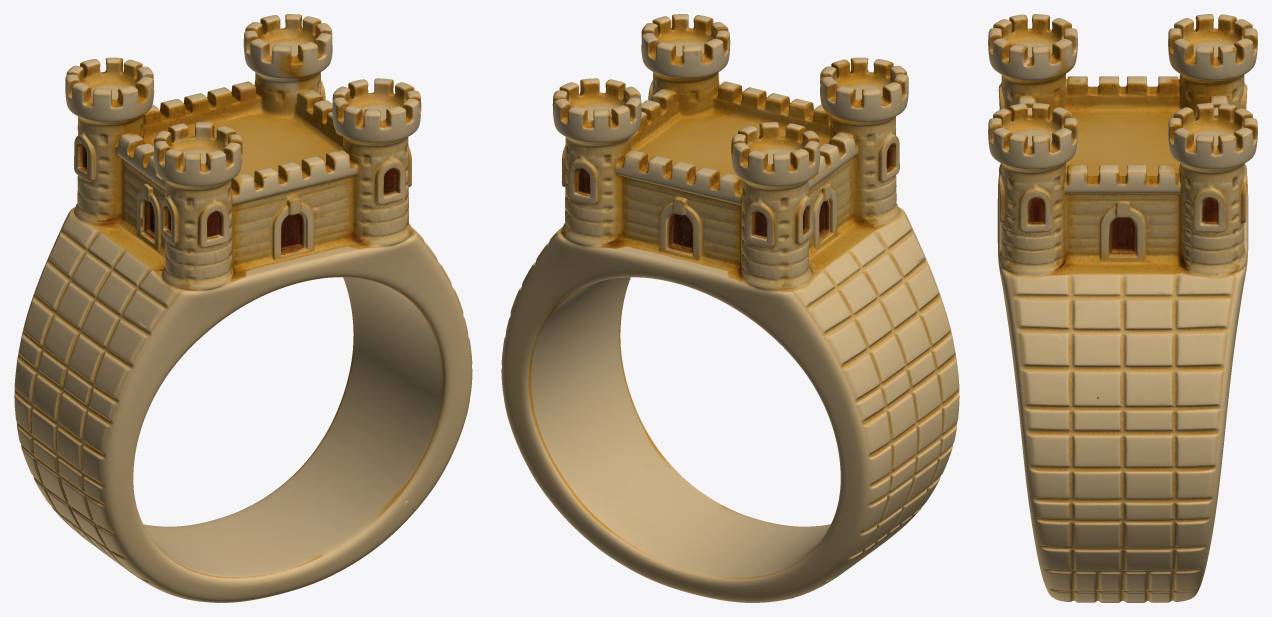
File: chateaulite.glb
The picture shows the model from 3 angles, left to right: view 1: azimuth 30°, elevation 25°; view 2: azimuth 150°, elevation 25°; view 3: azimuth 270°, elevation 25°; orthographic projection. The views are drawn at different scales.
Parts seen in each view (by area): view 1: material; view 2: material; view 3: material.
Part boxes in pixels (x1,y1,x2,y2): material: (14, 14, 472, 602); material: (501, 14, 959, 602); material: (988, 14, 1257, 602).
Bounding box in the file's own units: 0.8082 × 1 × 0.4902.
Materials: 1 (1 with a texture image).
